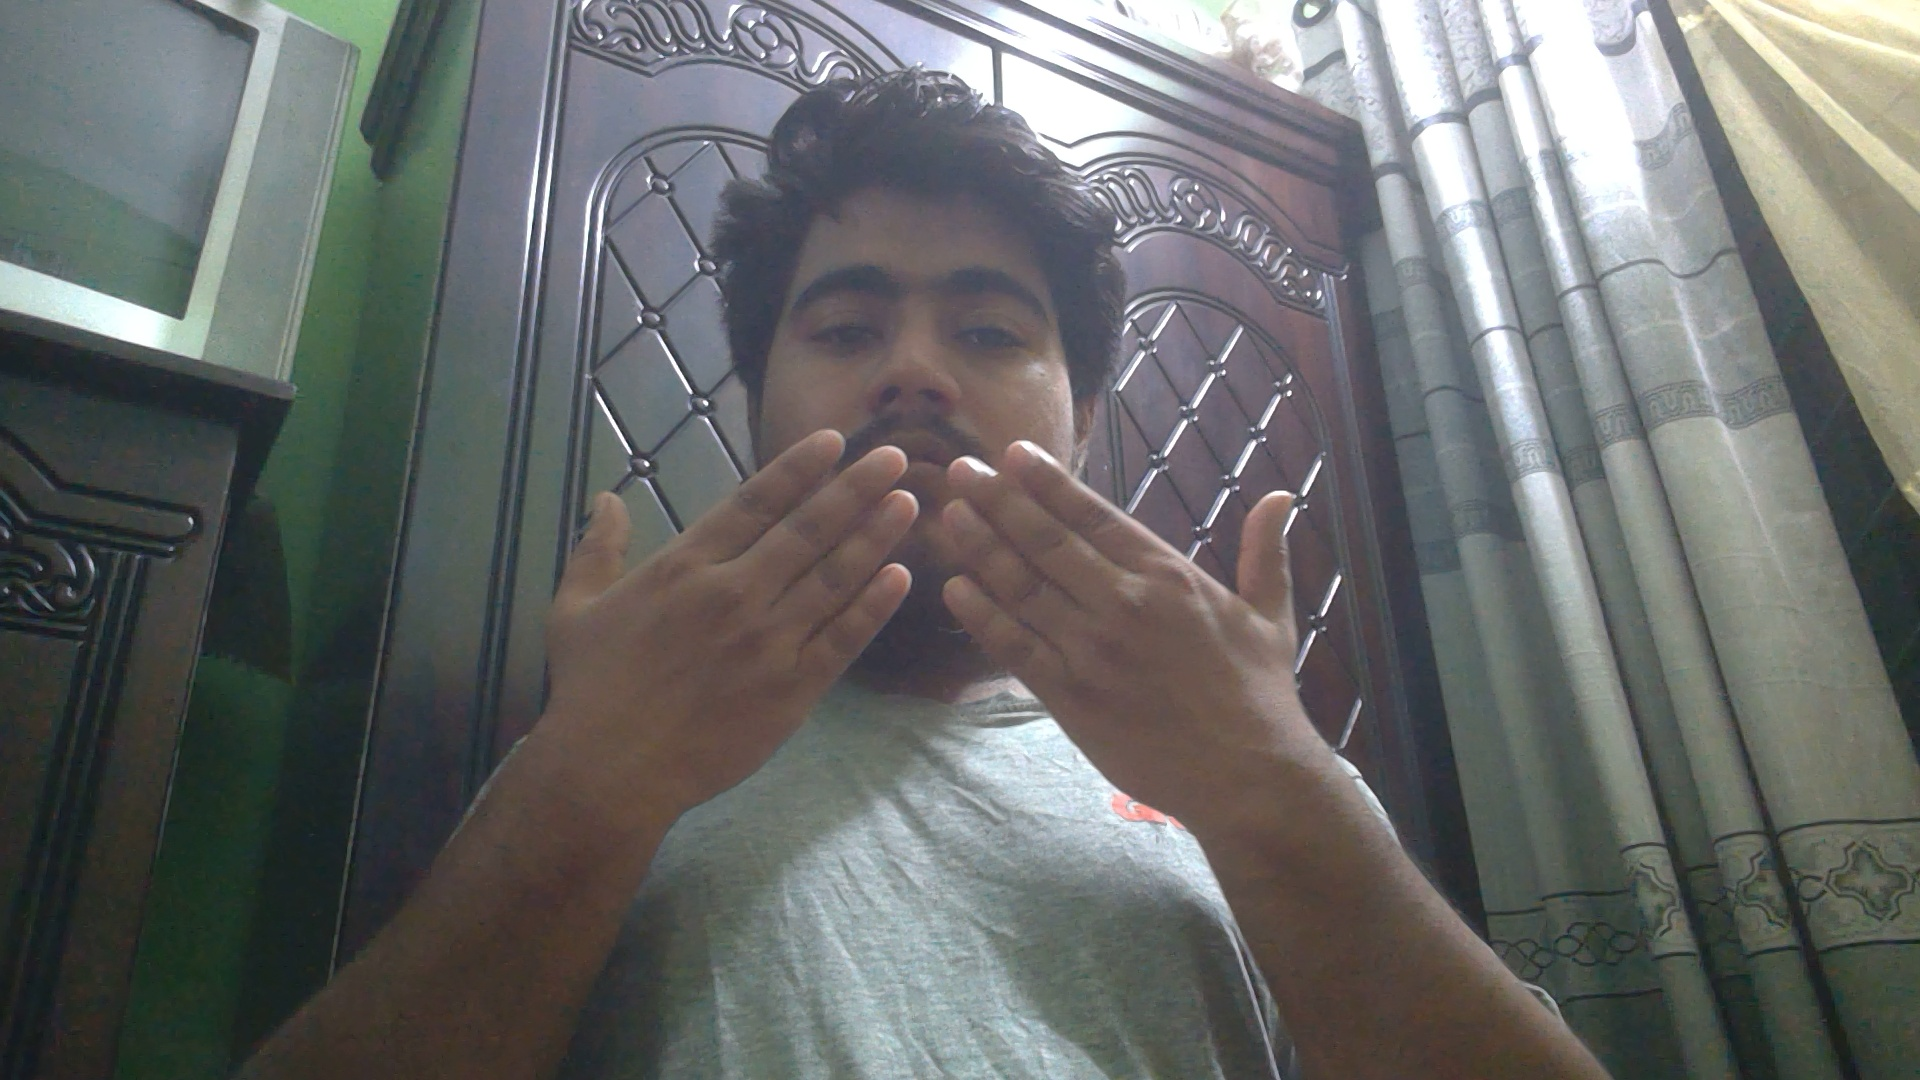thanks: (533, 418, 1321, 811)
